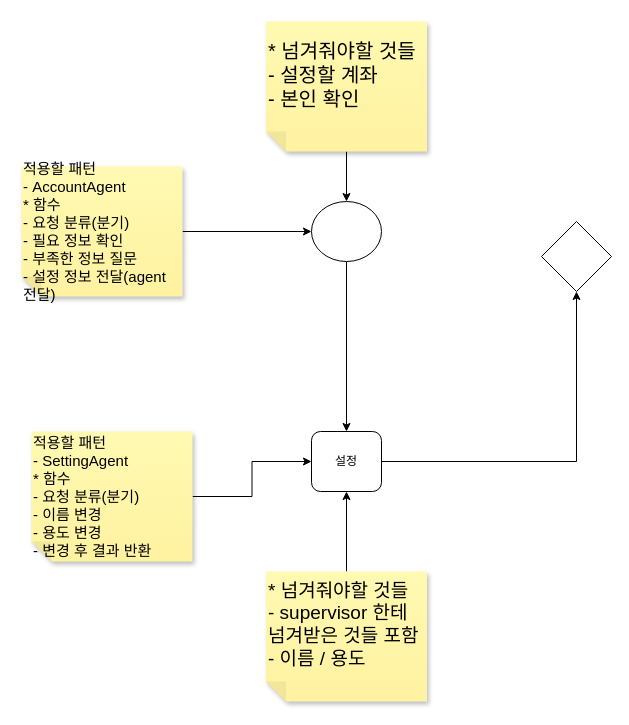
Image size: 629x725. Some labels were removed from this diagram. Each missing label, with the centre of its shape:
계좌: the point at 346,231
이름/용도: the point at 576,256
